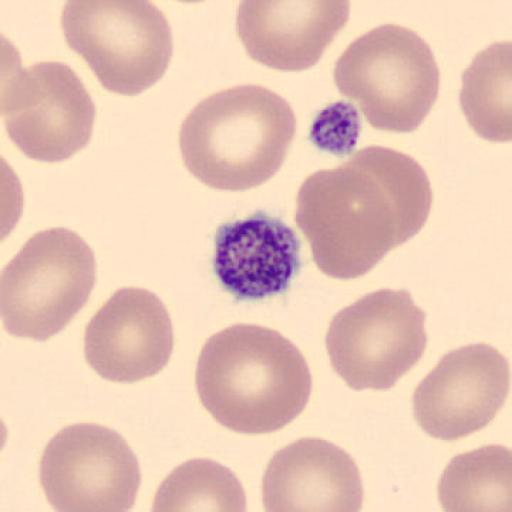Platelet: (208, 208, 306, 304), (304, 96, 366, 158)
RBC: (192, 321, 314, 436), (176, 80, 299, 194), (292, 160, 398, 283), (332, 21, 442, 136), (2, 224, 99, 344), (59, 0, 176, 99), (323, 285, 429, 393), (2, 58, 98, 165), (410, 341, 510, 442), (340, 143, 434, 249), (36, 419, 143, 512), (82, 284, 176, 385), (234, 1, 352, 74), (260, 434, 366, 512), (458, 38, 512, 145), (148, 455, 249, 512), (436, 440, 512, 512), (1, 153, 25, 246)
